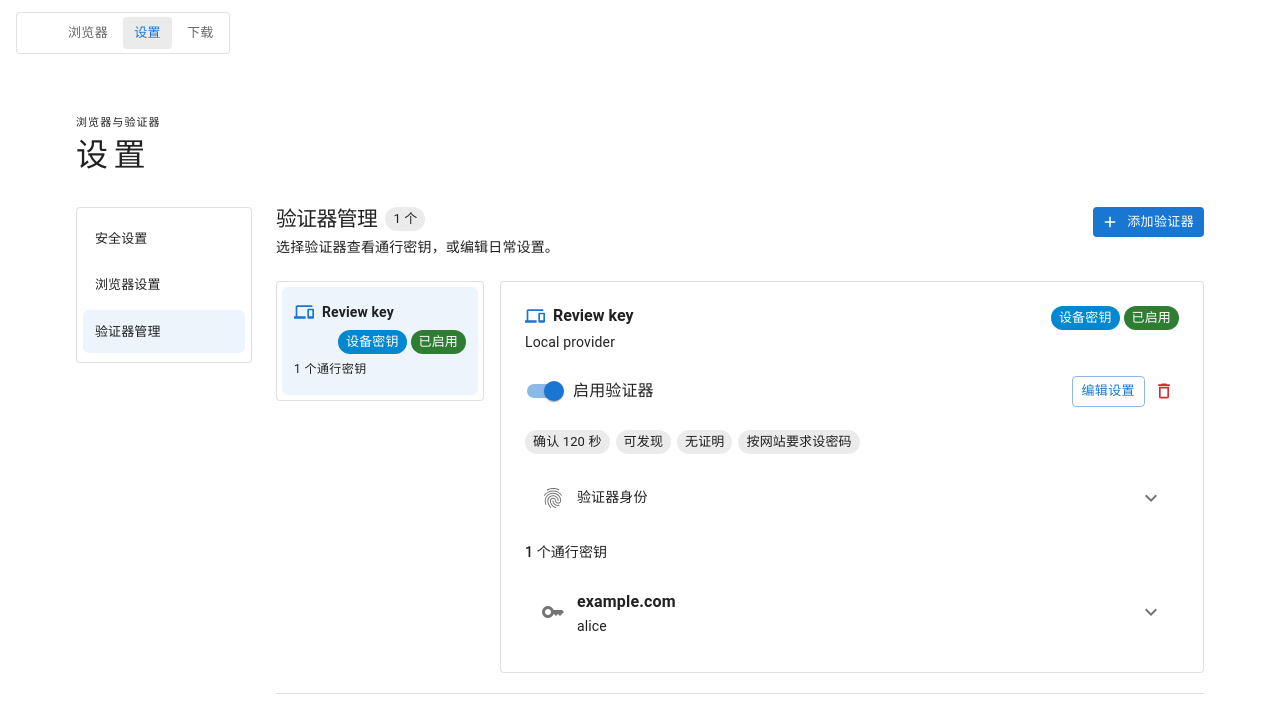
Test: UI polish regressions › groups delete with edit and keeps the exact confirmation copy
The width and height of the screenshot is (1280, 714).
expect the heading "Review key" is shown: met, box [553,307,634,326]
What coordinates should you click on to do the following:
click the button named "删除"
I would click on:
 (1164, 391)
Its box is [1149,376,1179,406].
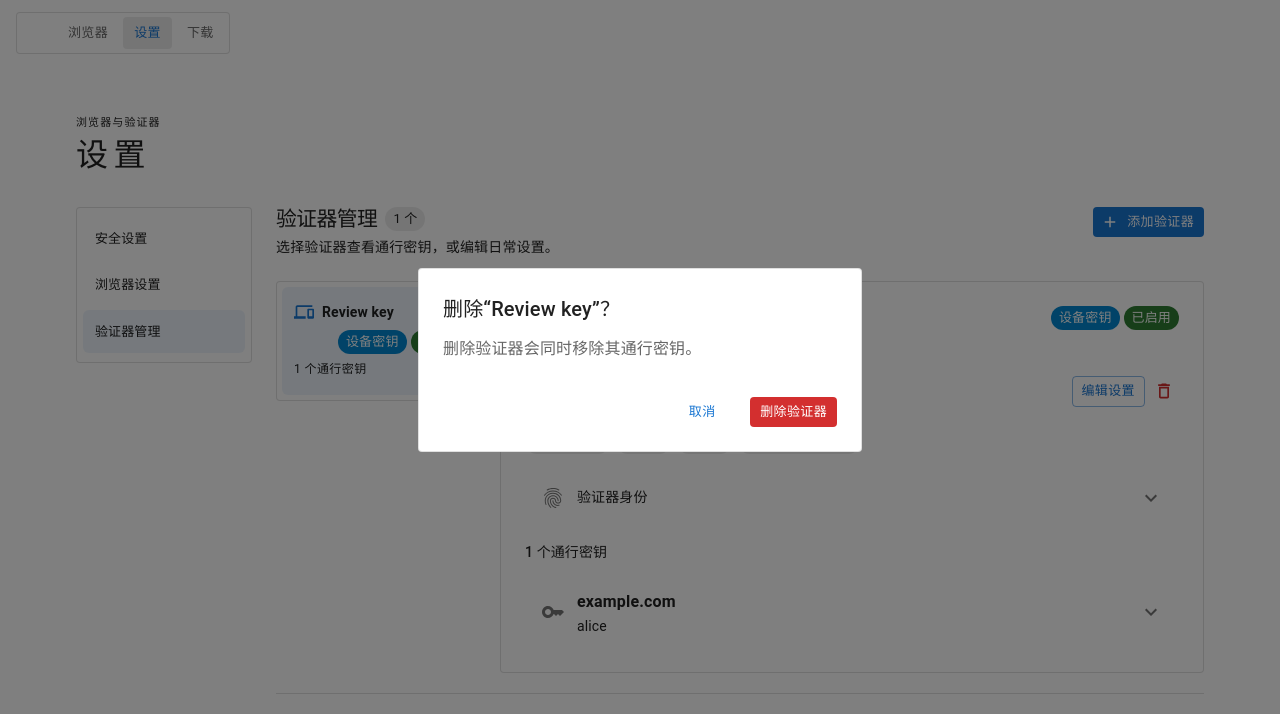
expect the text "删除验证器会同时移除其通行密钥。" is shown: met, box [443,339,701,358]
